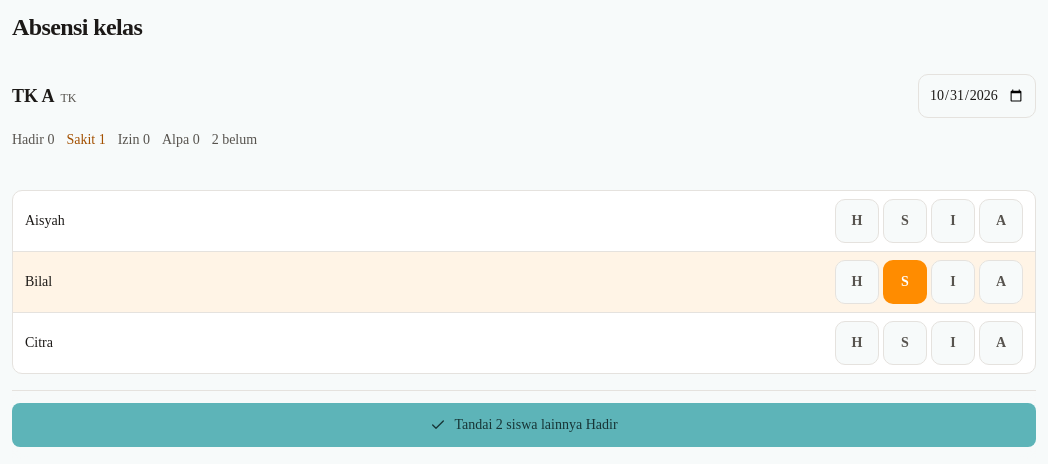
Test: ClassAttendancePage recovery › marks only the children without a status Hadir, in one request
Click the button "Tandai 2 siswa lainnya Hadir": coordinates (524, 425) x1=12 y1=403 x2=1036 y2=447
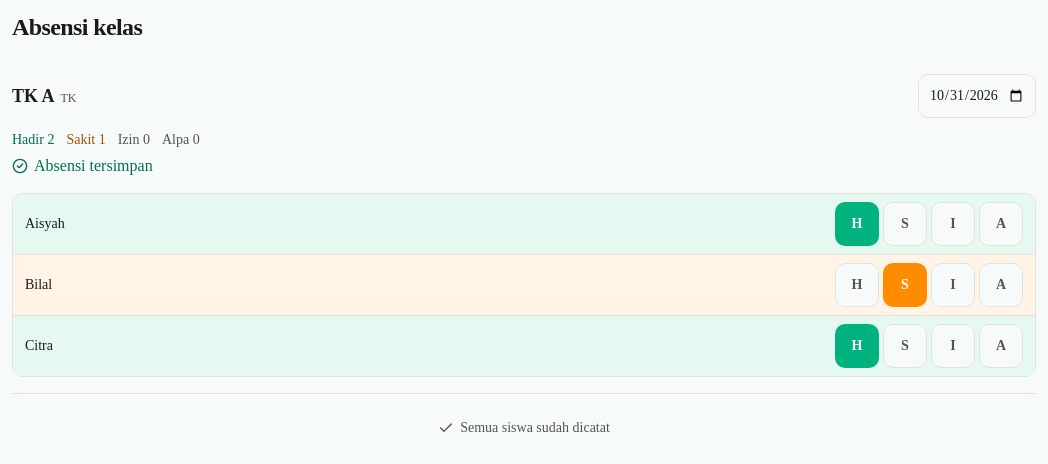
expect the text "Sakit 1" is shown: met, box x1=66 y1=130 x2=106 y2=150
expect the text "Semua siswa sudah dicatat" is shown: met, box x1=438 y1=420 x2=610 y2=436
expect the text "Hadir 2" is shown: met, box x1=12 y1=130 x2=54 y2=150
